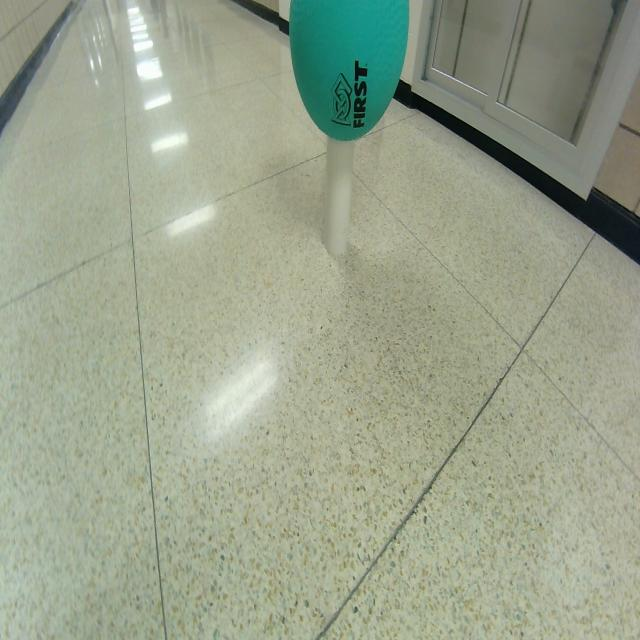algae: (287, 0, 410, 141)
coral: (321, 138, 355, 256)
